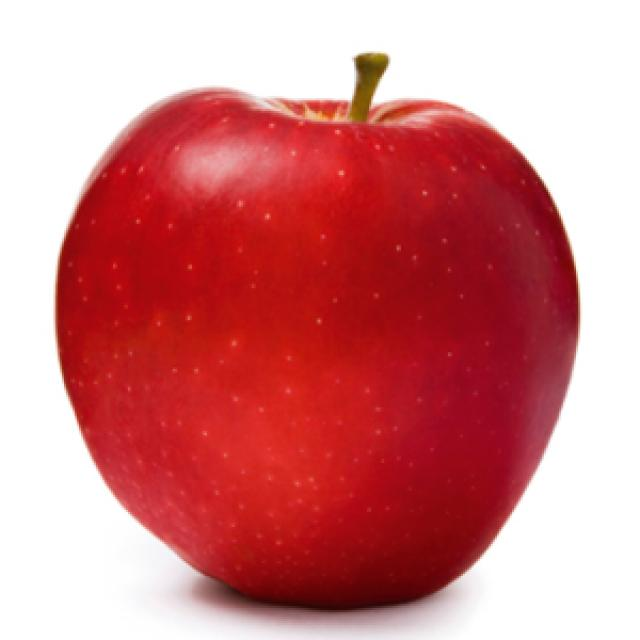apple: (58, 76, 585, 612)
